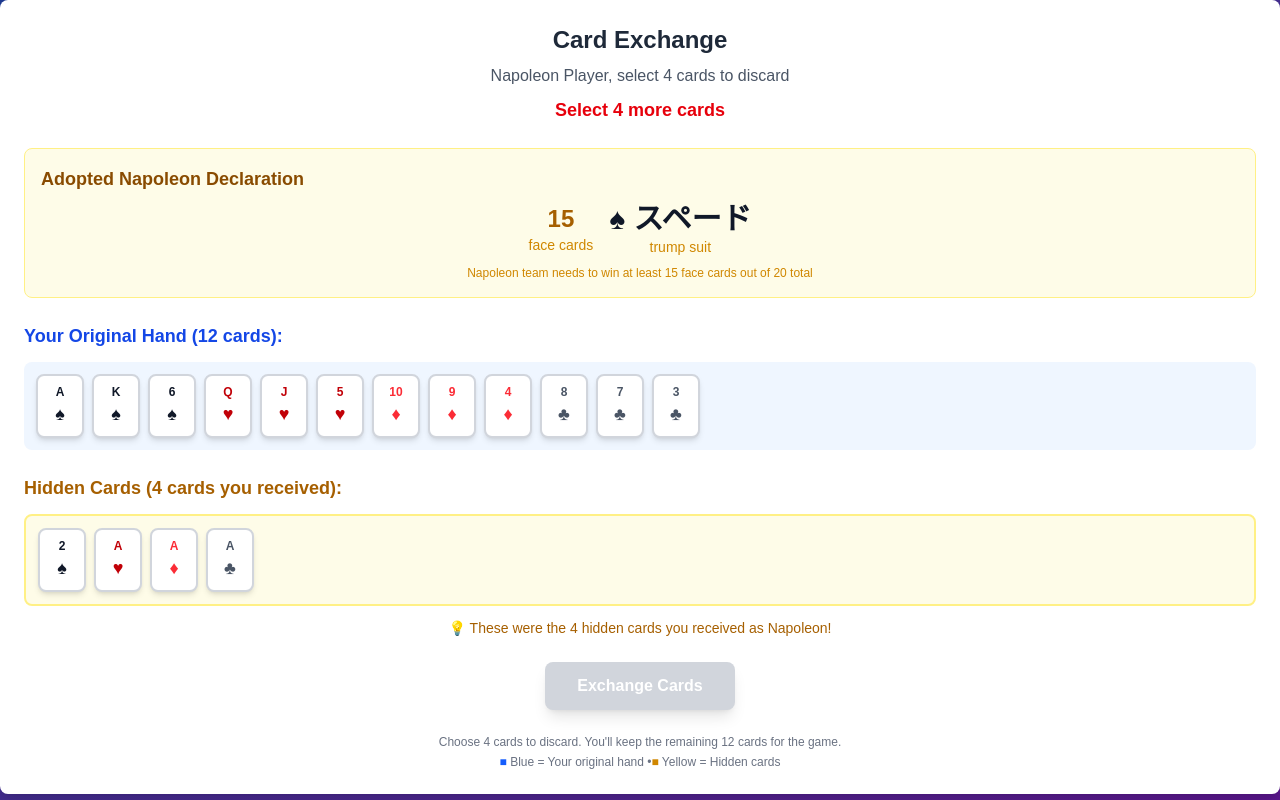
CardExchangeSelector › should enable exchange button only when 4 cards are selected
expect the button "Exchange Cards" is disabled: met, box [545,662,735,710]
Click the button "A ♠".
click(60, 406)  # box [36,374,84,438]
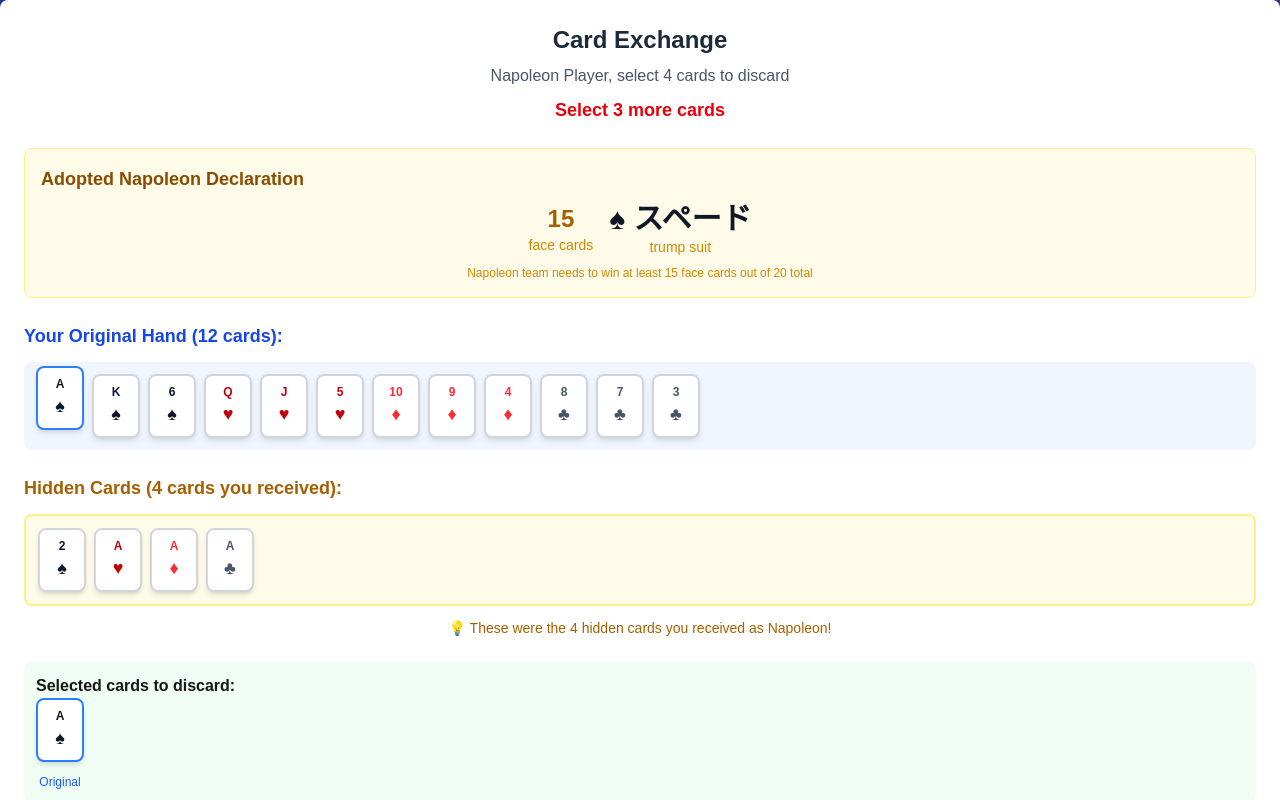
Click the button "K ♠".
click(116, 406)  # box [92,374,140,438]
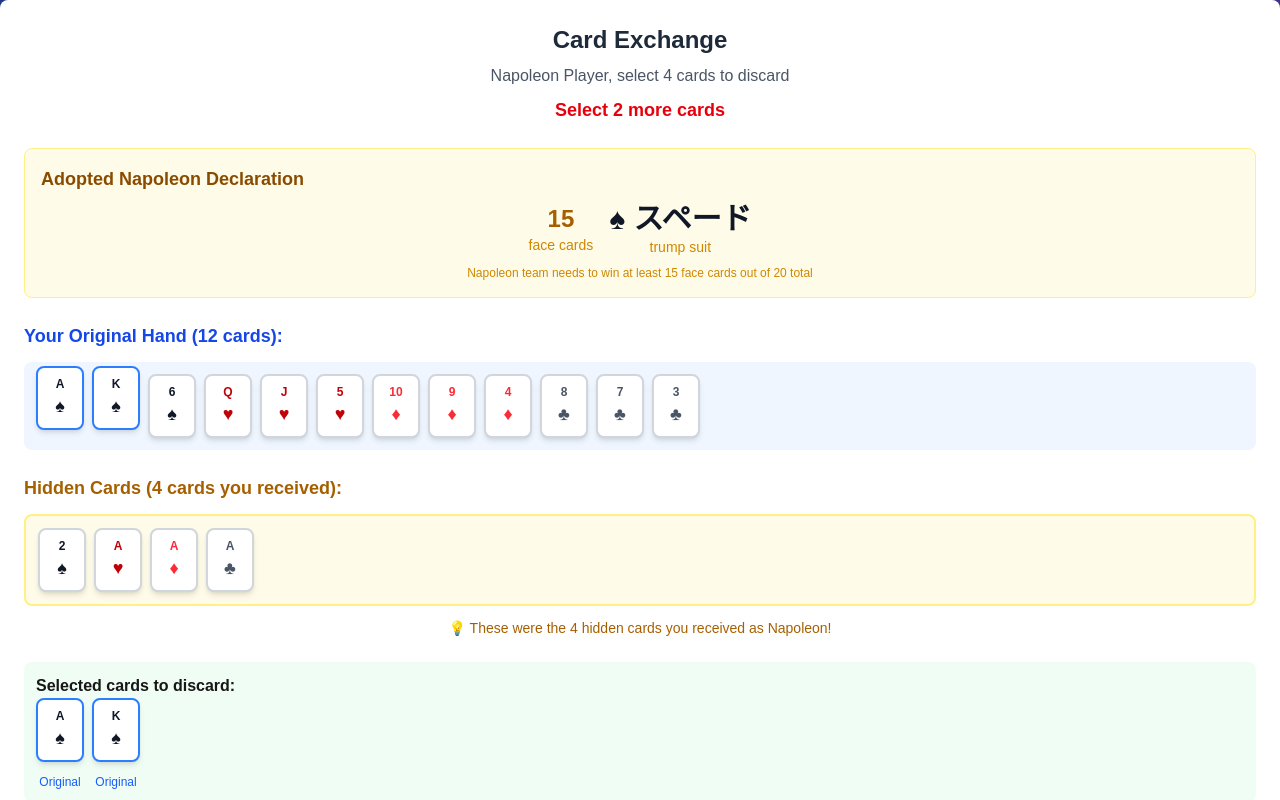
Click the button "A ♥".
click(118, 560)  # box [94,528,142,592]
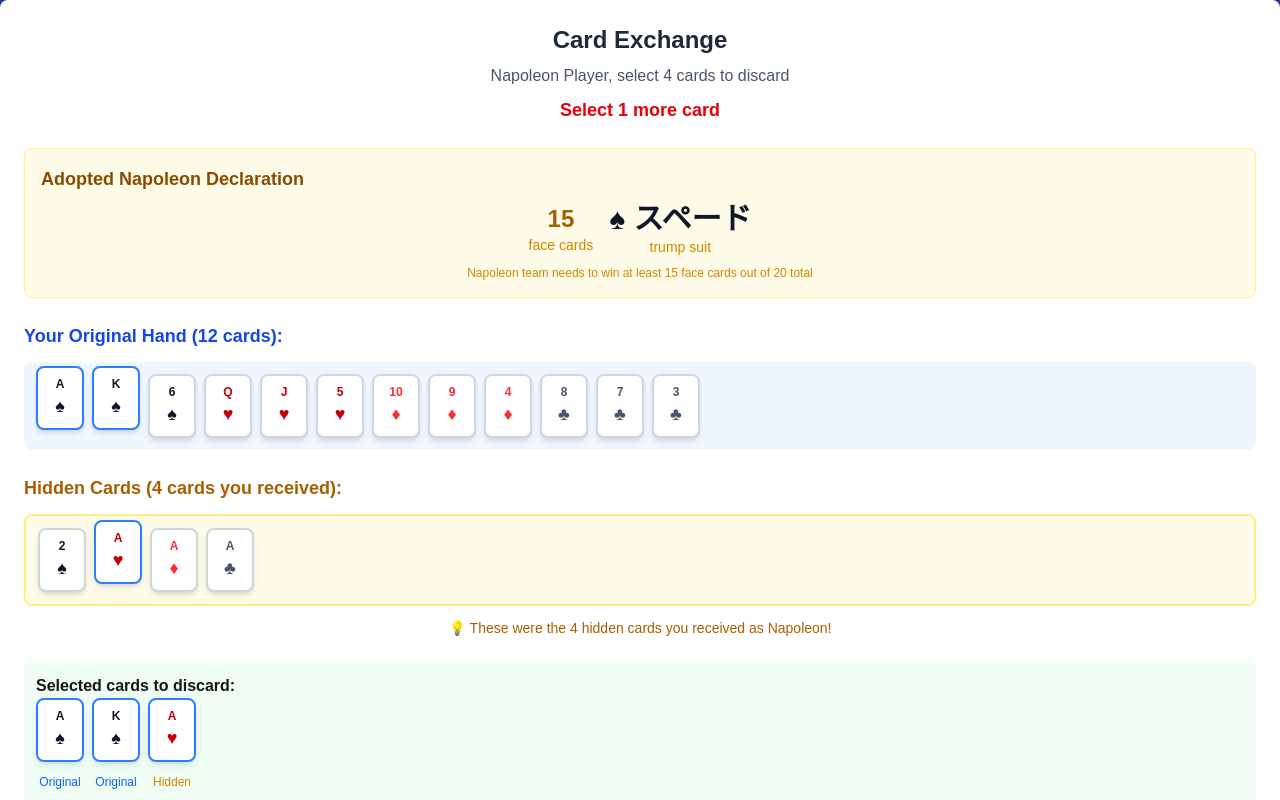
Click the button "A ♦".
click(174, 560)  # box [150,528,198,592]
(page scrolled)
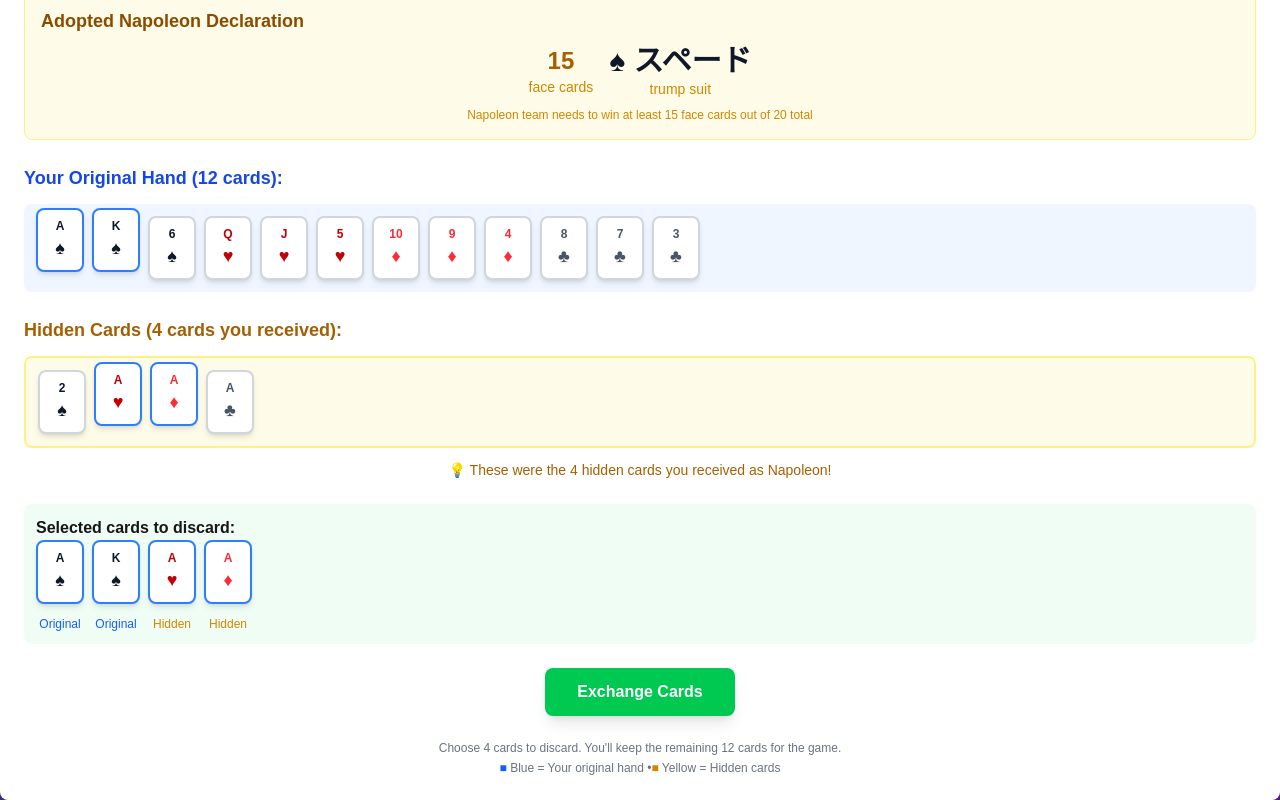
expect the button "Exchange Cards" is enabled: met, box [545,668,735,716]
